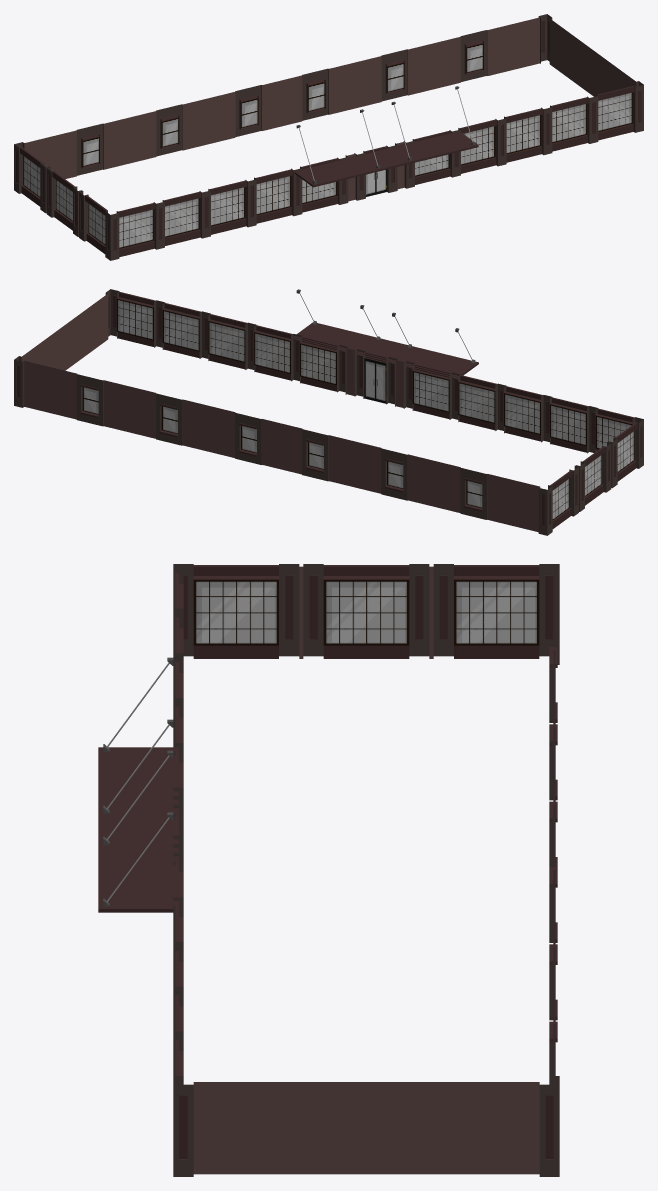
The model's file is BuildingSmall3_1.fbx.
3 renders of one model, top to bottom at view 1: azimuth 30°, elevation 25°; view 2: azimuth 150°, elevation 25°; view 3: azimuth 270°, elevation 25°, orthographic. The views are drawn at different scales.
Visible parts, largest first — view 1: BuildingSmall3_1; view 2: BuildingSmall3_1; view 3: BuildingSmall3_1.
Boxes of the visible parts, box(x1,y1,x2,y2) form: BuildingSmall3_1: box(14, 14, 643, 260); BuildingSmall3_1: box(14, 289, 643, 535); BuildingSmall3_1: box(98, 564, 559, 1176).
Bounding box in the file's own units: 6060 × 978 × 2271.
